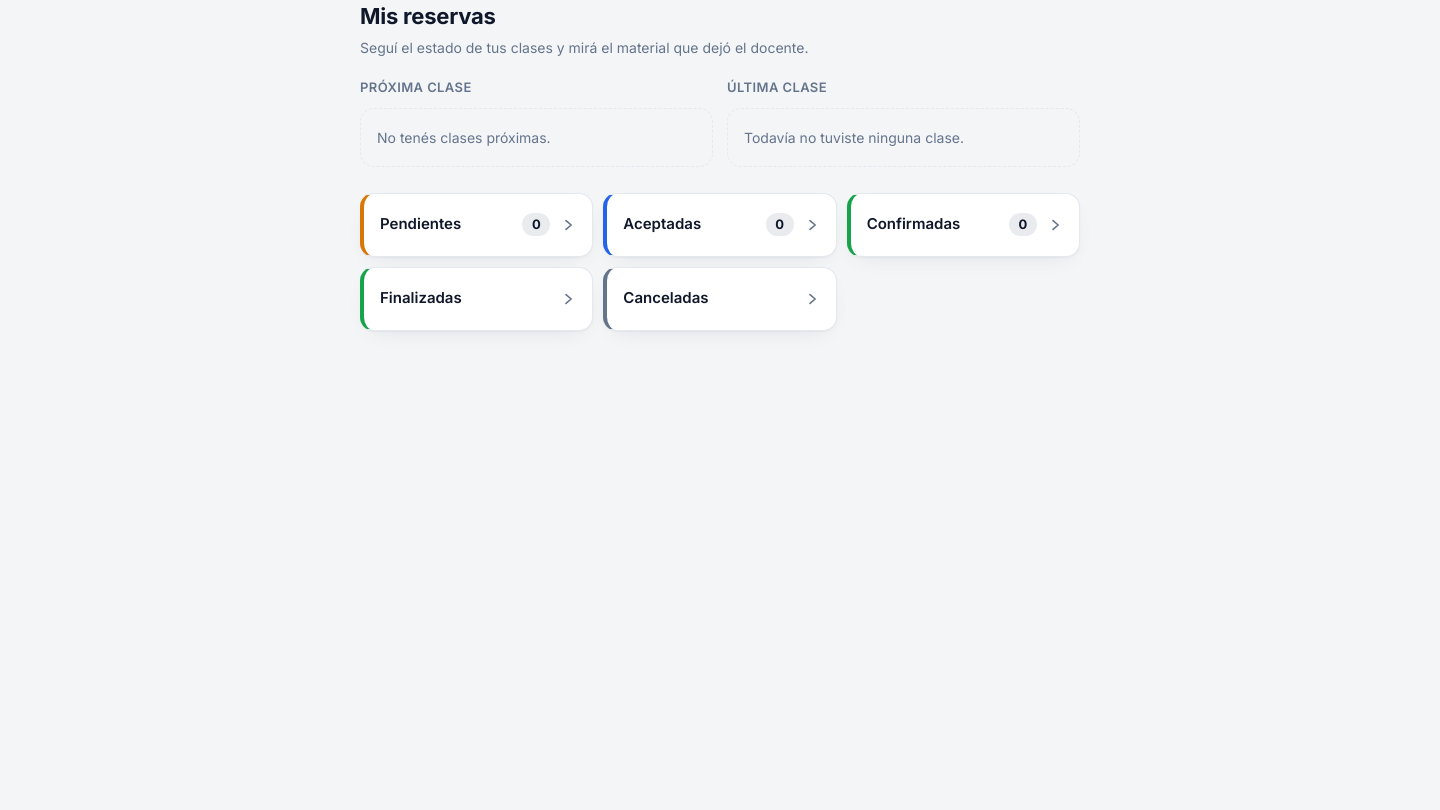
ReservationsPage › las canceladas dicen por qué, de la más nueva a la más vieja
What coordinates should you click on to do the following:
click the button "Canceladas"
I would click on:
 (720, 298)
Its box is [603, 266, 837, 330].
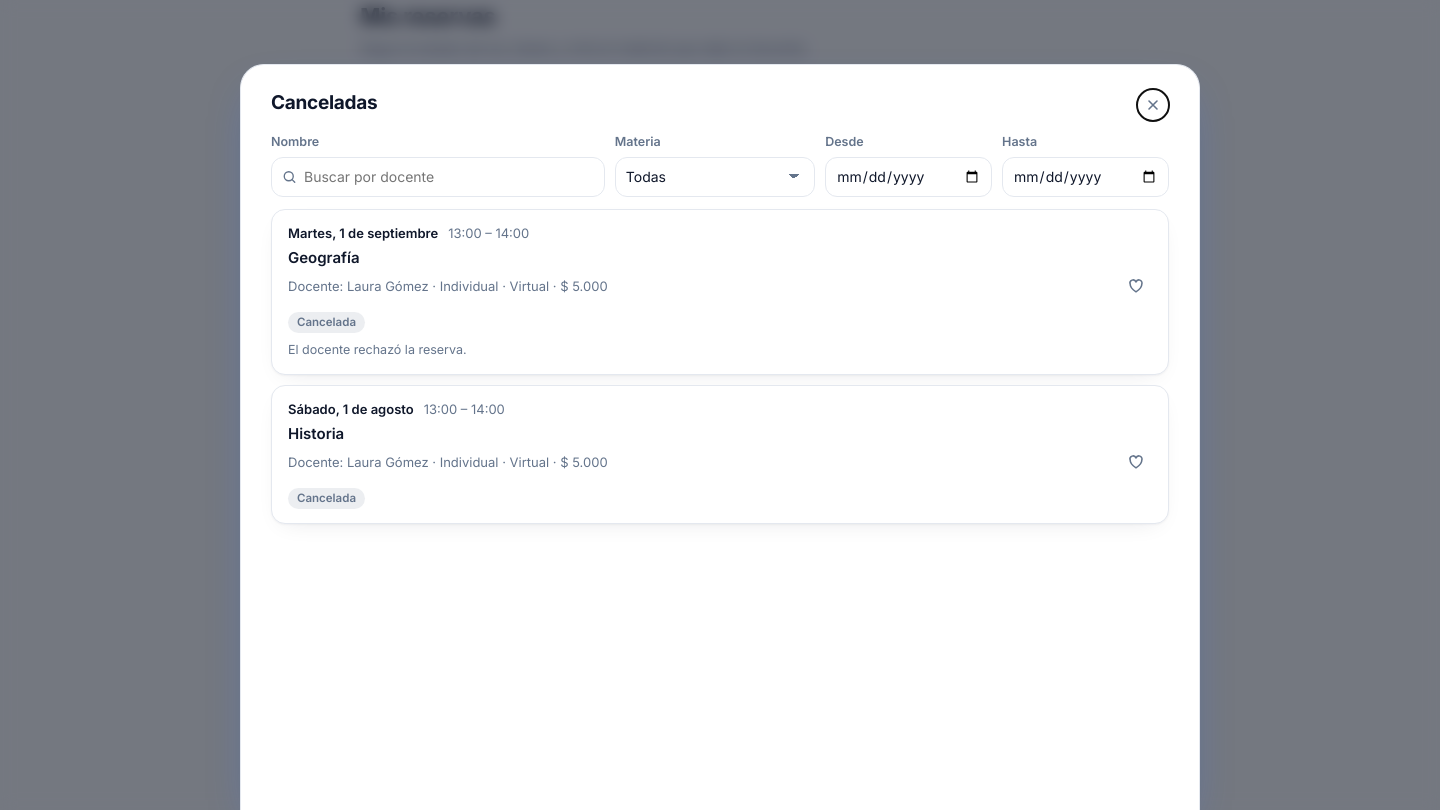
Expected: the button "Geografía" is shown, [288, 247, 360, 270]
Expected: the text "El docente rechazó la reserva." is shown, [288, 342, 467, 357]
